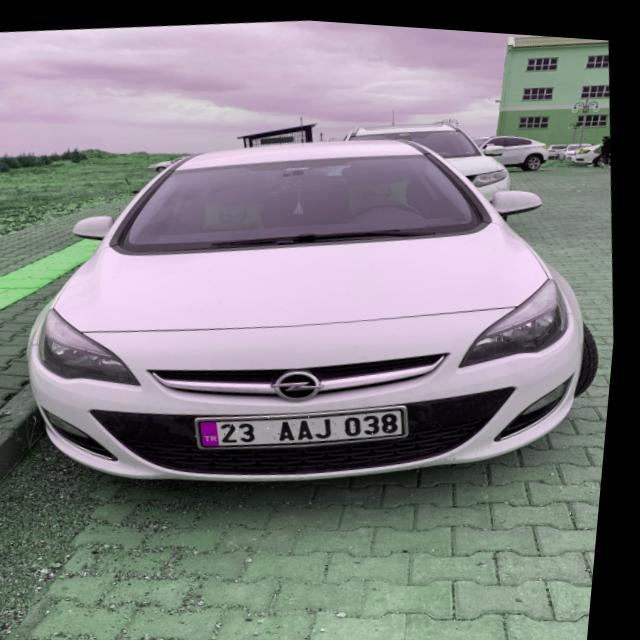license_plate: (200, 393, 415, 456)
